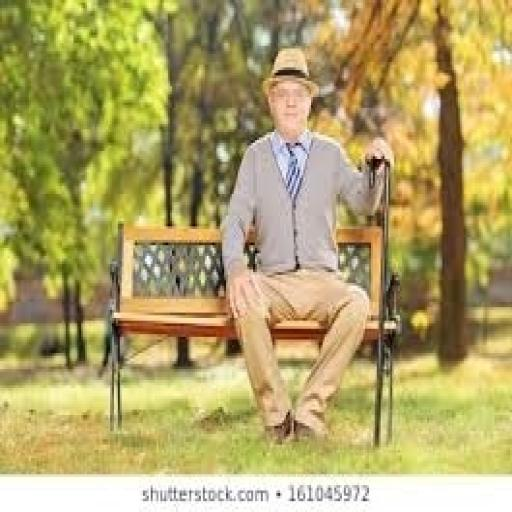sitting: (216, 43, 392, 445)
